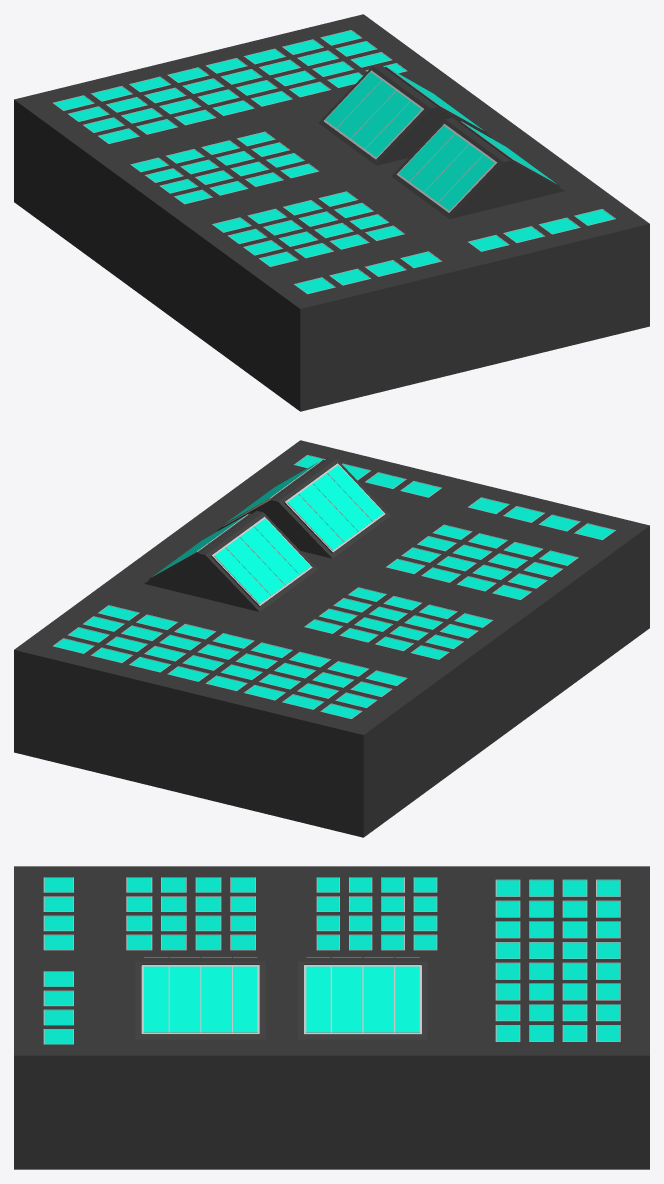
The model's file is Building.fbx.
3 renders of one model, top to bottom at view 1: azimuth 30°, elevation 25°; view 2: azimuth 150°, elevation 25°; view 3: azimuth 270°, elevation 25°, orthographic. The views are drawn at different scales.
Visible parts, largest first — view 1: Layer, Roof_1, Roof_2, Roof_3, Roof_5, Roof_4; view 2: Layer, Roof_1, Roof_2, Roof_3, Roof_4, Roof_5; view 3: Layer, Roof_3, Roof_1, Roof_2, Roof_4, Roof_5.
Part boxes in pixels (box(x1,y1,x2,y2)): Layer: box(14, 14, 649, 411); Roof_1: box(53, 30, 407, 143); Roof_2: box(130, 131, 404, 266); Roof_3: box(324, 68, 557, 212); Roof_5: box(468, 209, 615, 251); Roof_4: box(294, 251, 441, 294); Layer: box(14, 440, 649, 837); Roof_1: box(53, 605, 407, 719); Roof_2: box(304, 524, 578, 659); Roof_3: box(152, 460, 385, 605); Roof_4: box(468, 497, 615, 540); Roof_5: box(294, 455, 441, 497); Layer: box(14, 866, 649, 1169); Roof_3: box(141, 957, 421, 1034); Roof_1: box(495, 879, 620, 1041); Roof_2: box(126, 877, 437, 950); Roof_4: box(43, 877, 73, 950); Roof_5: box(43, 971, 73, 1044).
Size of the model in its own units: 2513 by 1005 by 3567.
